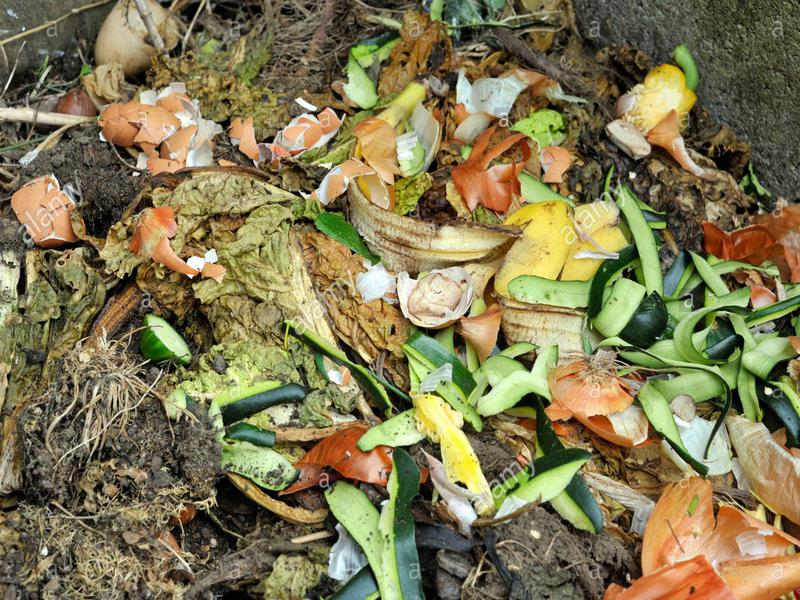vegetation: (19, 28, 797, 600)
